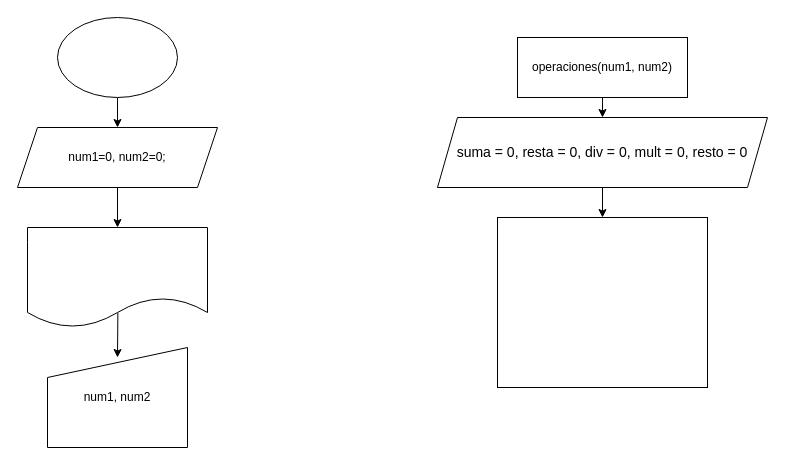
Some shapes in this 785 by 465 pixel diagram are drawn without their labels. Here are the shapes that lost their labels. From the top down, the centre of each, then its label:
(117,57): Start
(117,277): "Digite dos numeros: "
